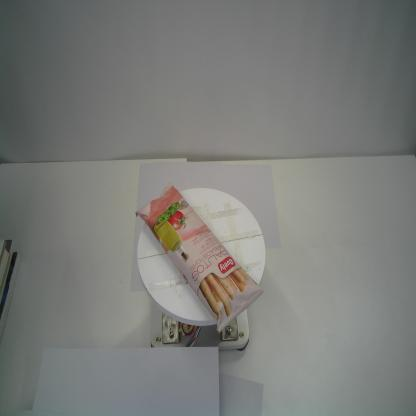Dessert: (132, 184, 264, 334)
